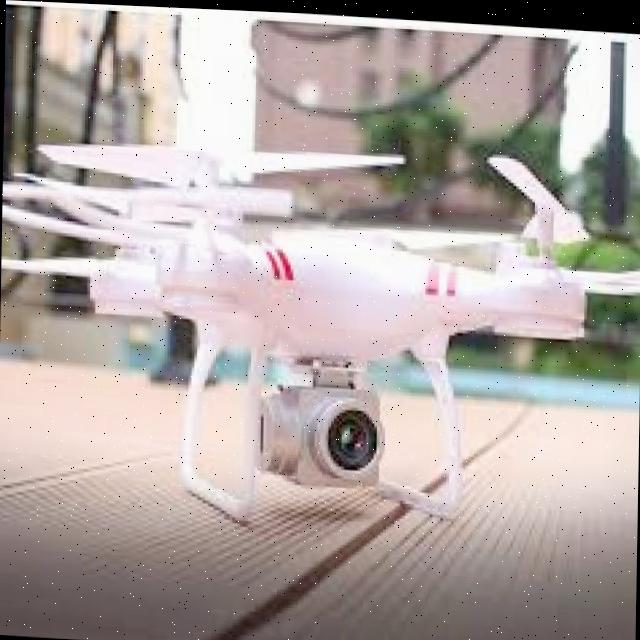drone: (0, 95, 640, 564)
